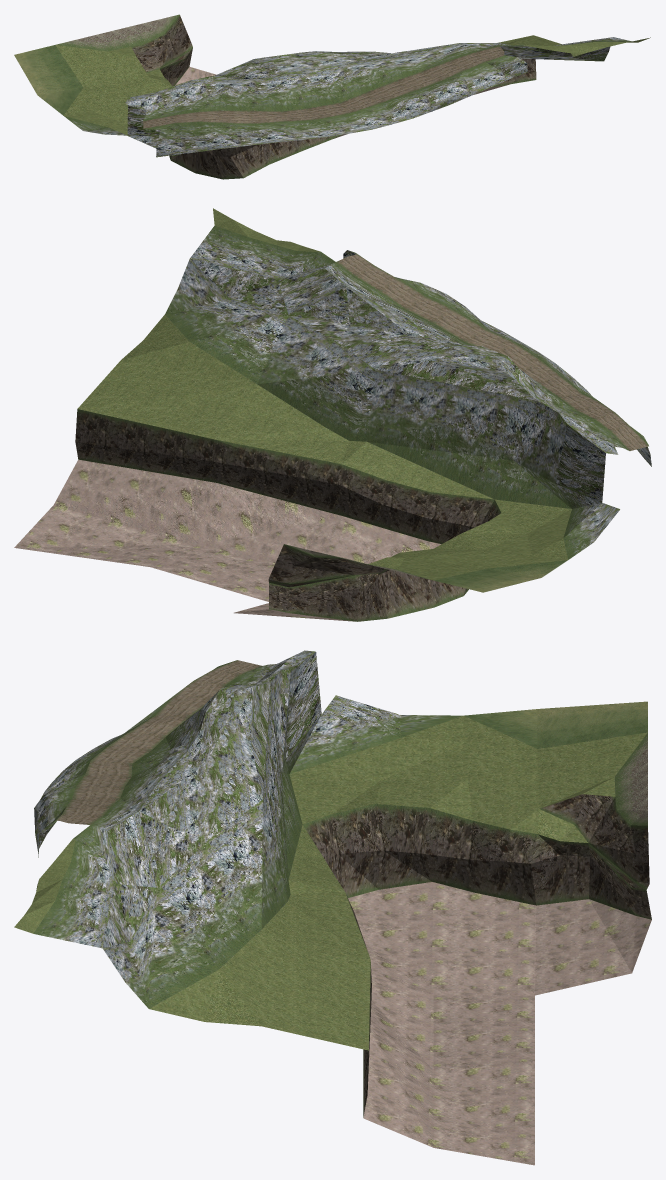
Rendered from cyecunteground02.obj.
The picture shows the model from 3 angles, top to bottom: view 1: azimuth 30°, elevation 25°; view 2: azimuth 150°, elevation 25°; view 3: azimuth 270°, elevation 25°; orthographic projection. The views are drawn at different scales.
Visible parts, largest first — view 1: cyecuntEground02; view 2: cyecuntEground02; view 3: cyecuntEground02.
Part boxes in pixels (x1,y1,x2,y2): cyecuntEground02: [14, 14, 650, 179]; cyecuntEground02: [14, 208, 651, 621]; cyecuntEground02: [14, 650, 651, 1165].
Bounding box in the file's own units: 268 × 93.19 × 217.
